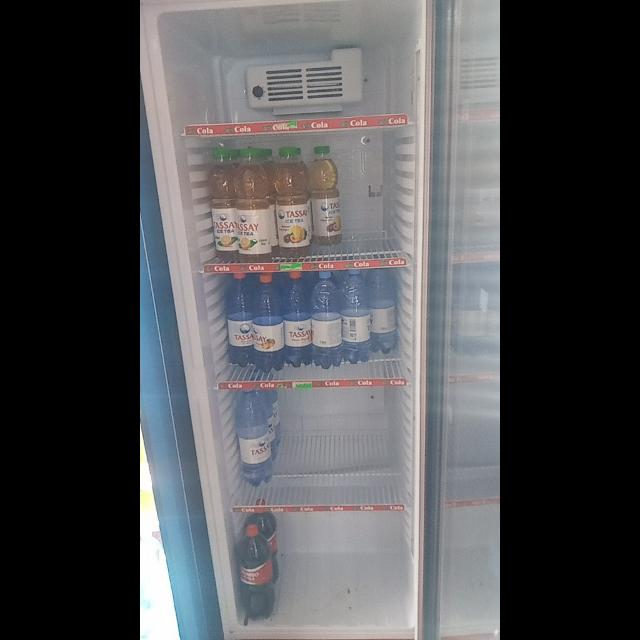Cooling-Display: (140, 1, 436, 640)
